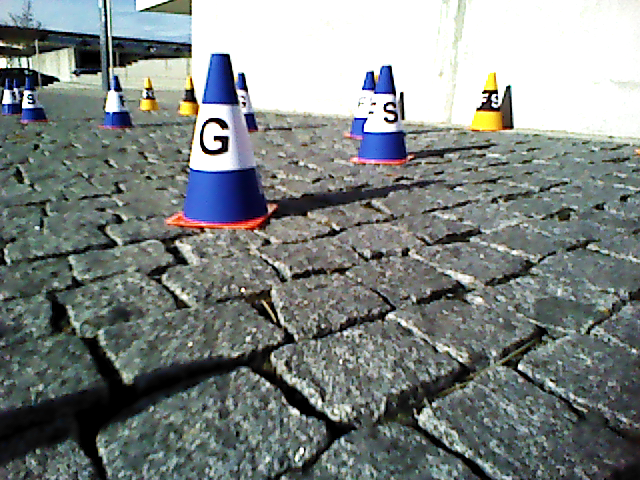bluecone: (183, 55, 265, 215), (360, 67, 407, 159), (105, 76, 132, 126), (19, 74, 45, 122), (351, 72, 370, 137)
yellowcone: (474, 73, 503, 131), (178, 77, 198, 114), (139, 77, 156, 110)
